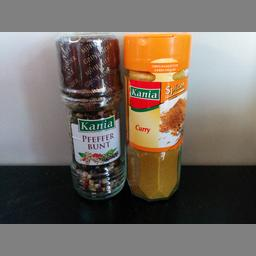spices: (122, 32, 191, 199), (54, 34, 124, 198)
